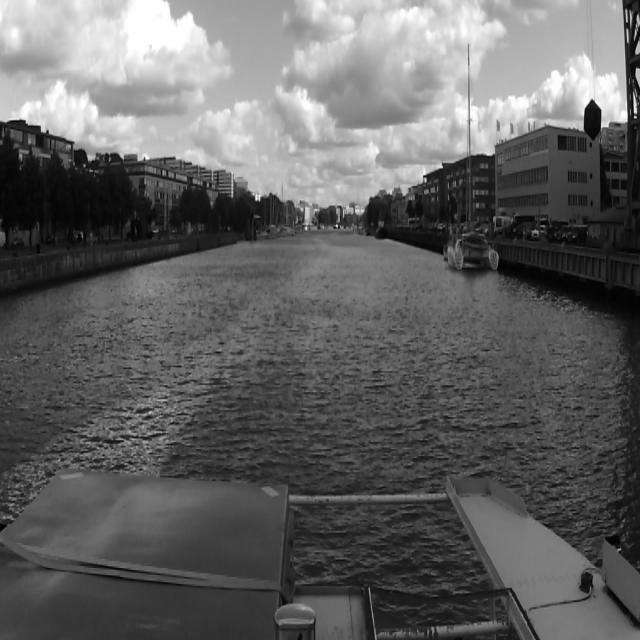ship: (444, 42, 500, 268)
